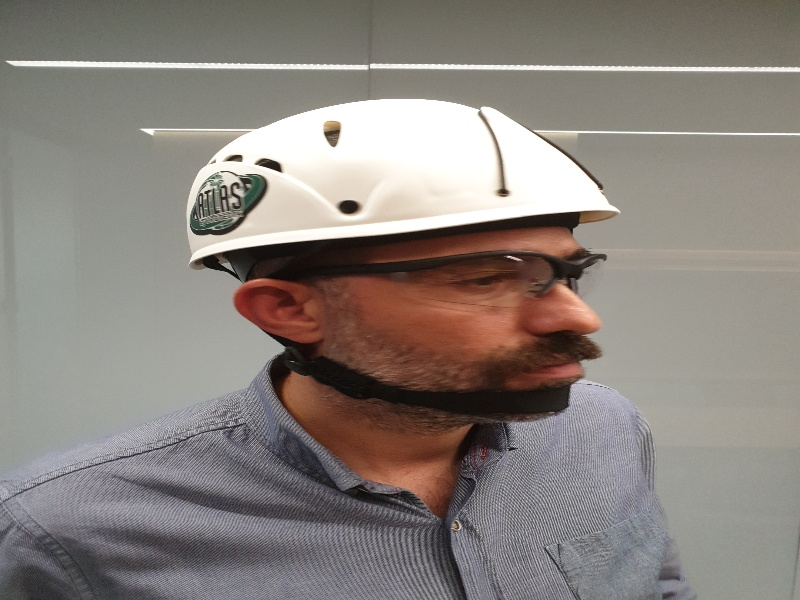Baret: (173, 113, 641, 229)
Gozluk: (309, 253, 636, 301)
